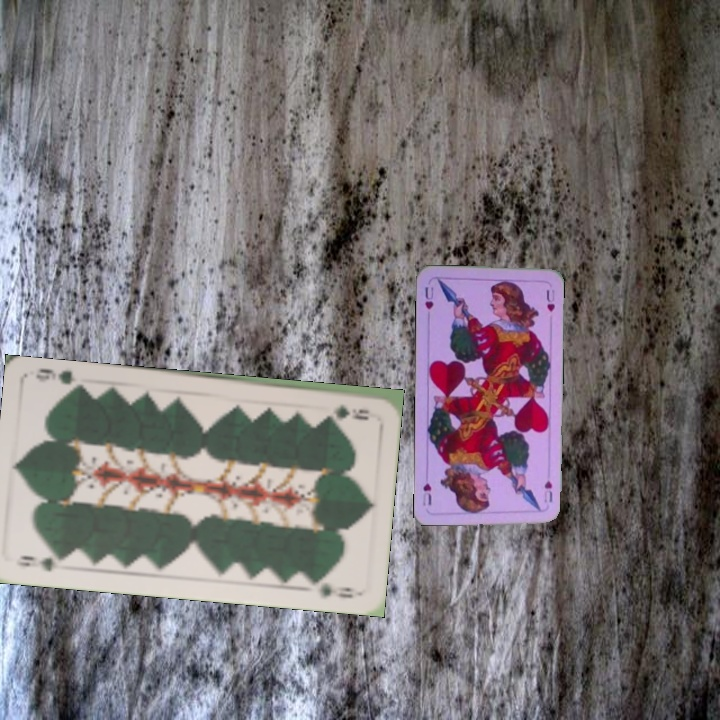G9: (12, 551, 72, 574), (330, 400, 372, 421)
HU: (539, 476, 555, 505), (421, 283, 436, 312)
